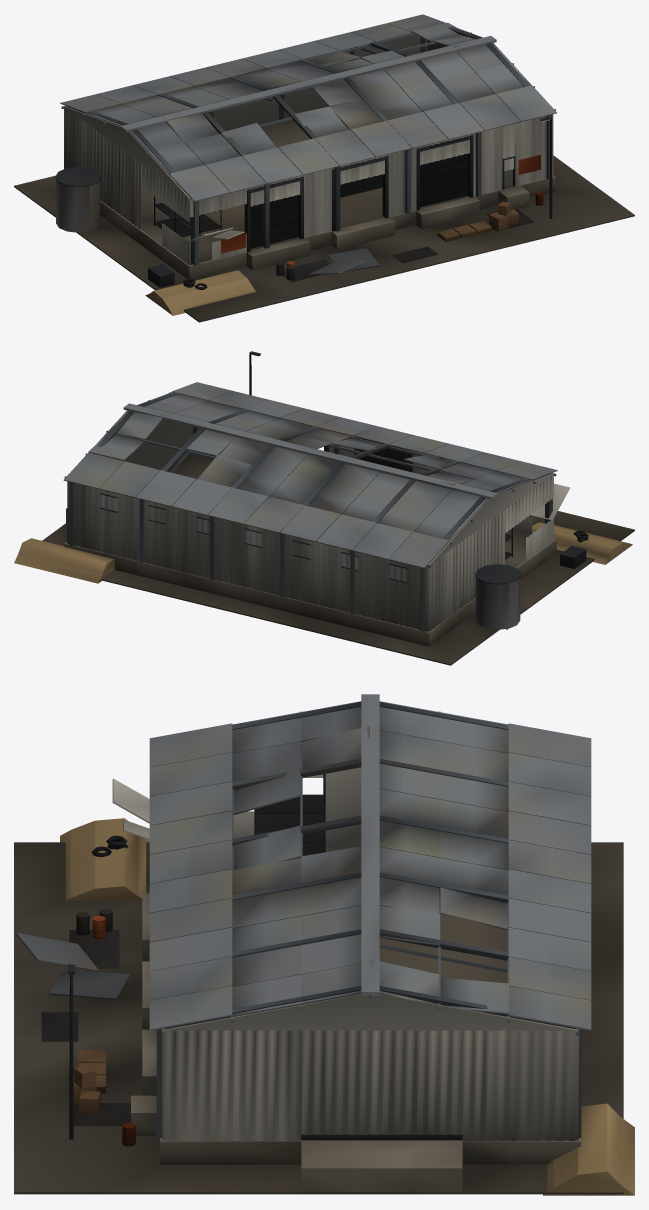
The model's file is warehouse.glb.
3 renders of one model, top to bottom at view 1: azimuth 30°, elevation 25°; view 2: azimuth 150°, elevation 25°; view 3: azimuth 270°, elevation 25°, orthographic. The views are drawn at different scales.
Visible parts, largest first — view 1: metal_bare, paint, concrete_dark, metal_dark, concrete, steel_beam, sand, wood, asphalt, rust; view 2: metal_bare, paint, concrete_dark, concrete, steel_beam, sand, metal_dark, glass; view 3: metal_bare, paint, concrete_dark, concrete, steel_beam, sand, metal_dark, asphalt, wood.
Boxes of the visible parts, bbox=[...] form: metal_bare: bbox=[56, 14, 556, 275]; paint: bbox=[64, 29, 553, 265]; concrete_dark: bbox=[14, 118, 634, 322]; metal_dark: bbox=[55, 116, 552, 287]; concrete: bbox=[100, 175, 555, 279]; steel_beam: bbox=[61, 26, 555, 265]; sand: bbox=[145, 270, 255, 315]; wood: bbox=[437, 201, 518, 241]; asphalt: bbox=[282, 209, 534, 282]; rust: bbox=[221, 154, 543, 271]; metal_bare: bbox=[63, 382, 557, 629]; paint: bbox=[67, 411, 569, 631]; concrete_dark: bbox=[42, 453, 634, 665]; concrete: bbox=[64, 508, 556, 646]; steel_beam: bbox=[64, 392, 556, 631]; sand: bbox=[14, 522, 632, 583]; metal_dark: bbox=[100, 351, 586, 629]; glass: bbox=[102, 495, 405, 581]; metal_bare: bbox=[16, 694, 591, 1030]; paint: bbox=[112, 767, 579, 1141]; concrete_dark: bbox=[14, 842, 623, 1194]; concrete: bbox=[131, 893, 580, 1192]; steel_beam: bbox=[156, 702, 581, 1137]; sand: bbox=[60, 818, 634, 1195]; metal_dark: bbox=[68, 774, 462, 1140]; asphalt: bbox=[41, 930, 130, 1126]; wood: bbox=[69, 1050, 105, 1115].
Size of what is drawn, in the model's own units: 37 by 8.56 by 27.
